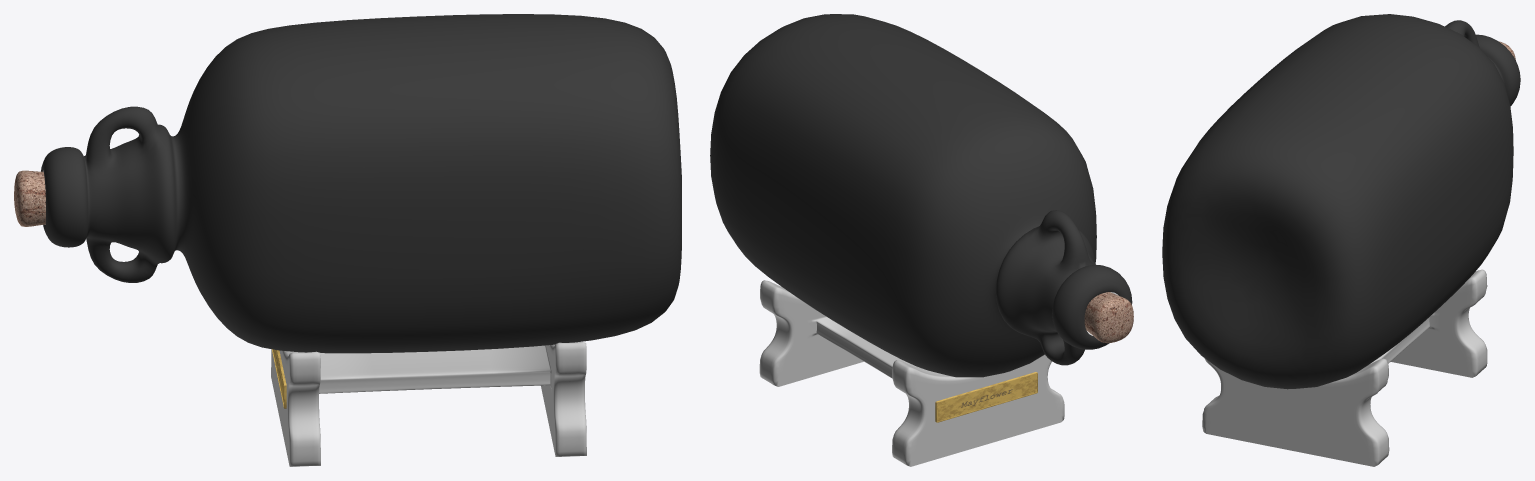
The model's file is Ship in a bottle.fbx.
3 views of the same model, side by side, from view 1: azimuth 30°, elevation 25°; view 2: azimuth 150°, elevation 25°; view 3: azimuth 270°, elevation 25° (orthographic). The views are drawn at different scales.
Parts seen in each view (by area): view 1: bottle_export, support_export, cap_export; view 2: bottle_export, support_export, plaque_export, cap_export; view 3: bottle_export, support_export.
Part boxes in pixels (x1,y1,x2,y2): bottle_export: [41, 14, 681, 353]; support_export: [271, 342, 586, 466]; cap_export: [14, 170, 45, 226]; bottle_export: [710, 14, 1132, 377]; support_export: [759, 280, 1064, 466]; plaque_export: [935, 372, 1037, 422]; cap_export: [1084, 292, 1133, 343]; bottle_export: [1162, 14, 1520, 389]; support_export: [1202, 269, 1487, 466].
Bounding box in the file's own units: 52.01 × 33.78 × 32.94.
